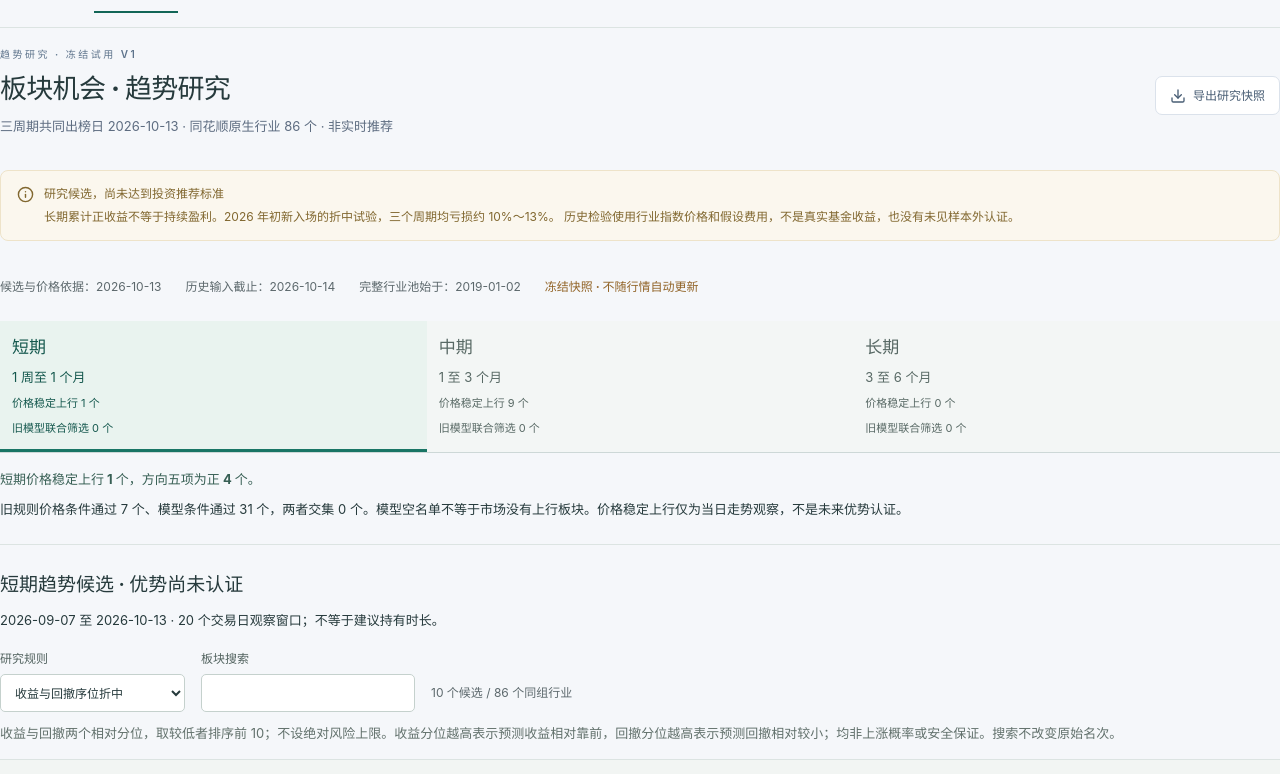
Test: sector opportunity three-horizon research › preserves original rule ranks under search and changes evidence with the horizon
The width and height of the screenshot is (1280, 774).
Expected: the heading "板块机会 · 趋势研究" is shown, [0,72,230,105]
Type "881156" into the search field labelled "板块搜索" at (308, 693), box [201,674,415,712]
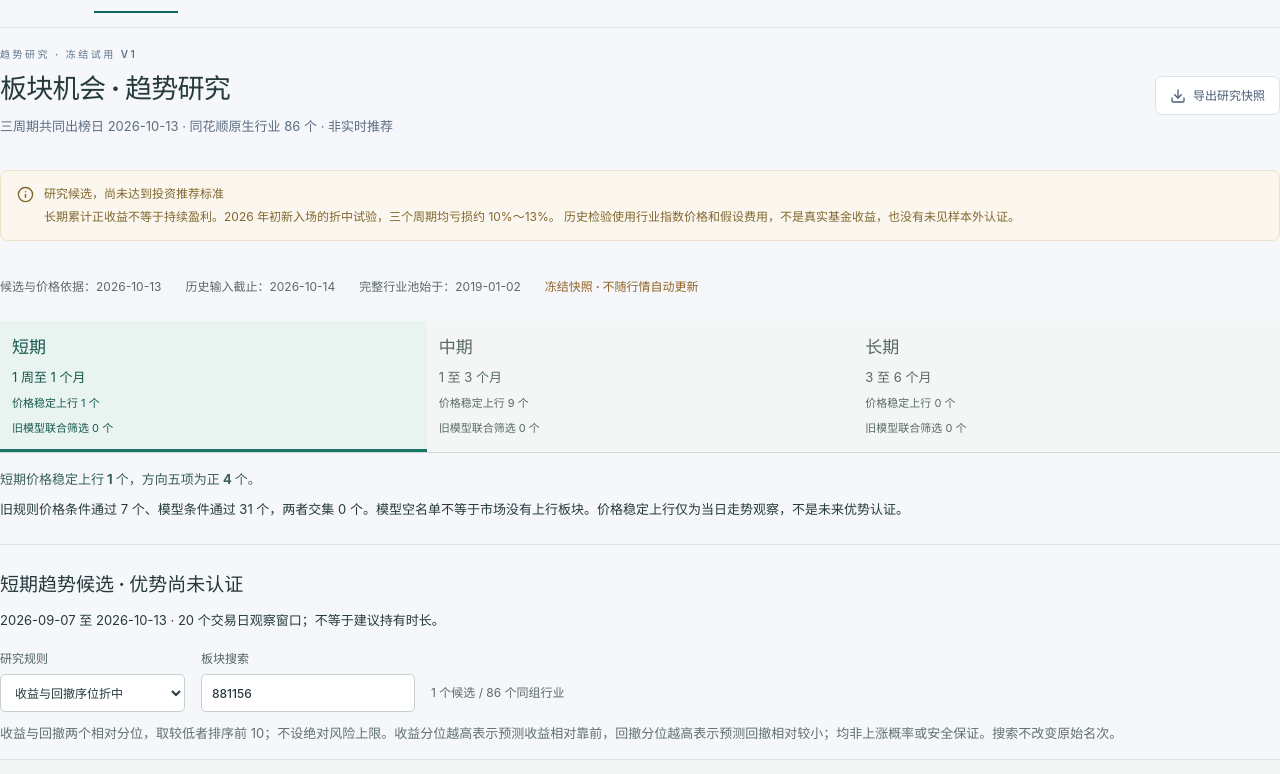
Clear the search field labelled "板块搜索" at (308, 693), box [201,674,415,712]
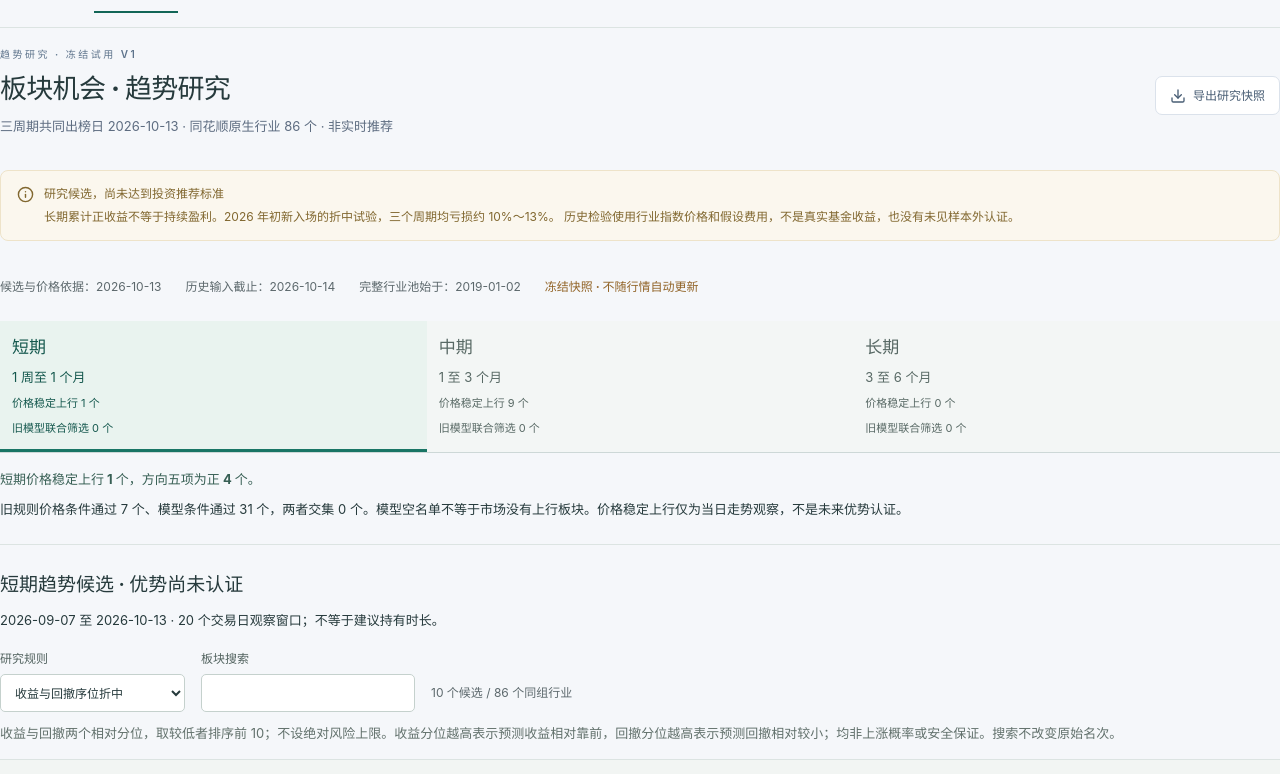
Click the tab "中期 1 至 3 个月 价格稳定上行 9 个 旧模型联合筛选 0 个" at (456, 347), box [427,321,853,452]
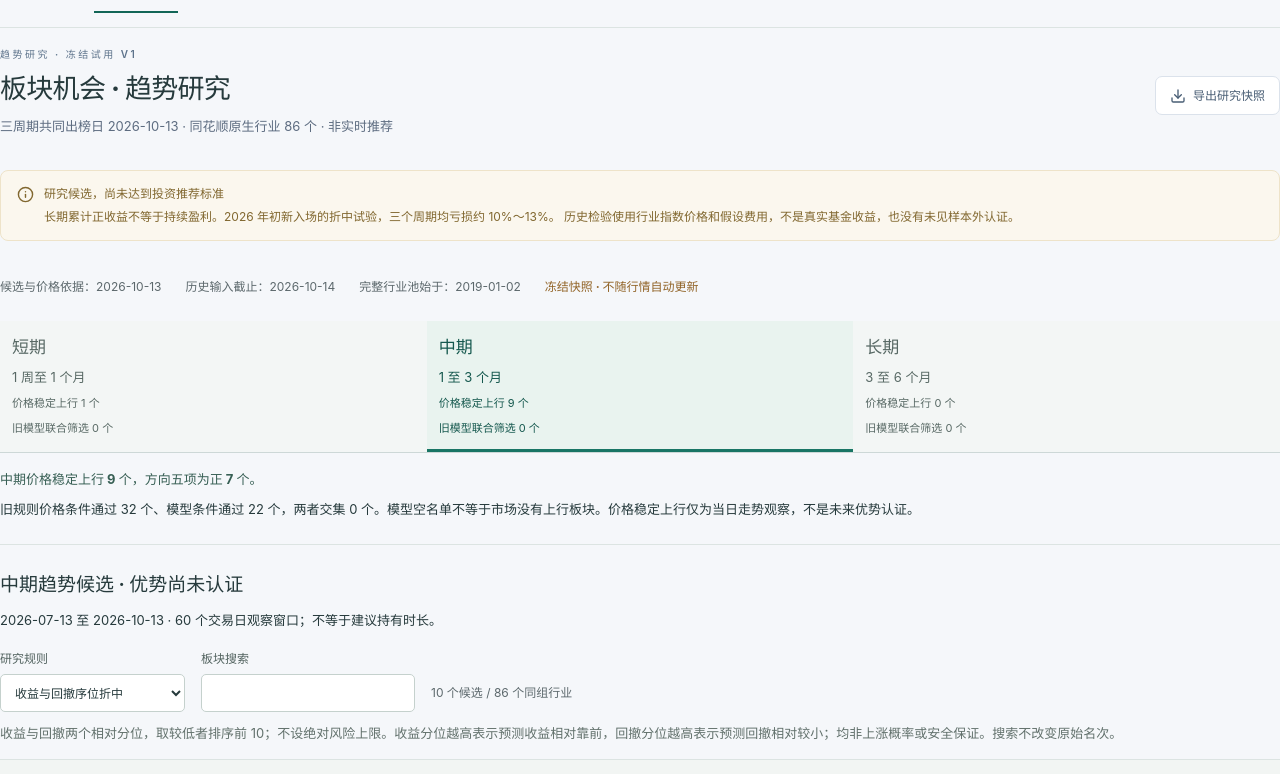
Click the tab "长期 3 至 6 个月 价格稳定上行 0 个 旧模型联合筛选 0 个" at (882, 347), box [853,321,1279,452]
(page scrolled)
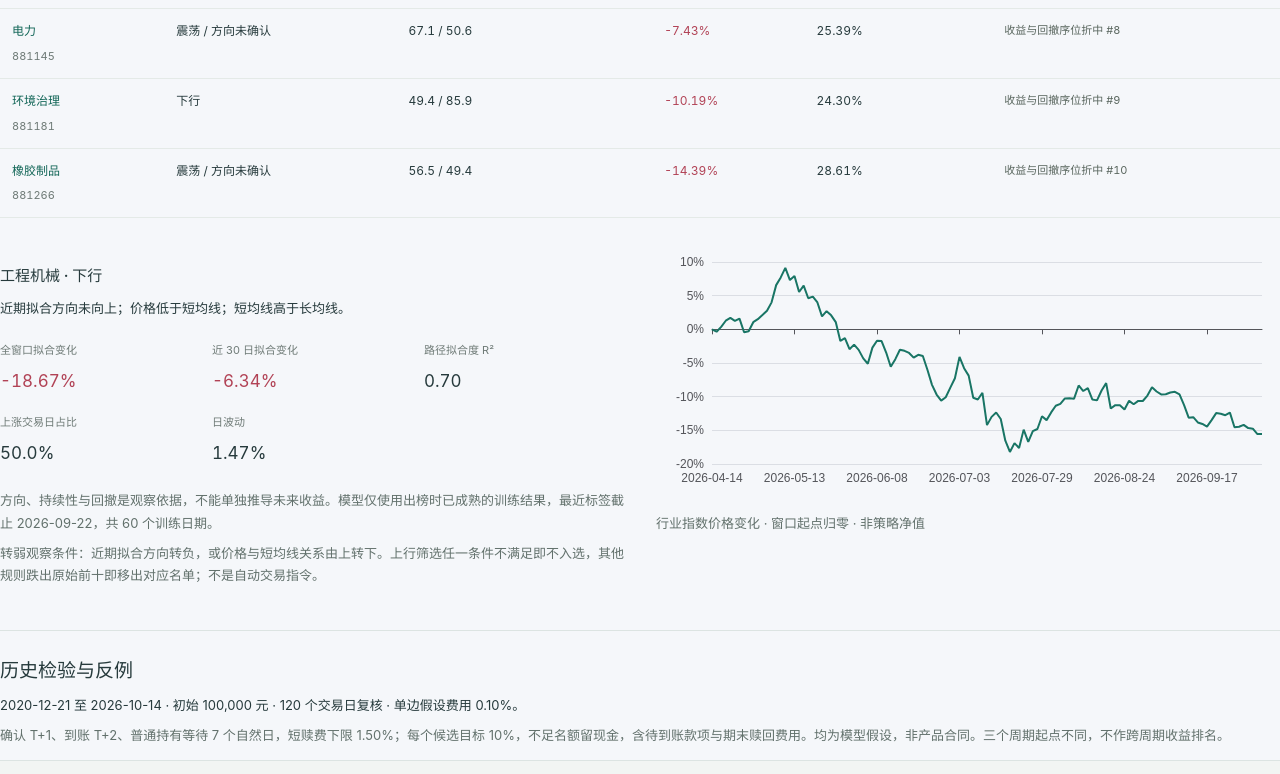
Result: the picture named "长期冻结价格路径" is shown at [656,244,1279,504]
